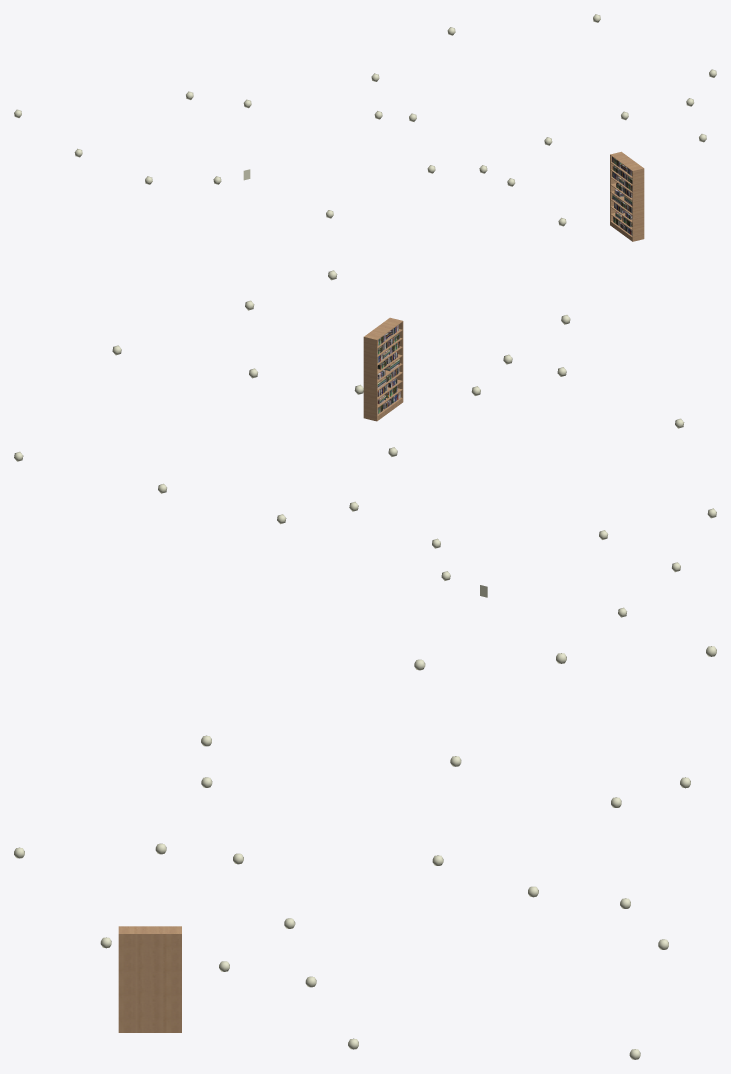
3 renders of one model, top to bottom at view 1: azimuth 30°, elevation 25°; view 2: azimuth 150°, elevation 25°; view 3: azimuth 270°, elevation 25°, orthographic. The views are drawn at different scales.
Visible parts, largest first — view 1: Group005; view 2: Group005; view 3: Group005.
Part boxes in pixels (x1,y1,x2,y2): Group005: (610,151,644,241); Group005: (363,317,403,421); Group005: (118,926,181,1032).
Size of the model in its own units: 861 by 136 by 654.
